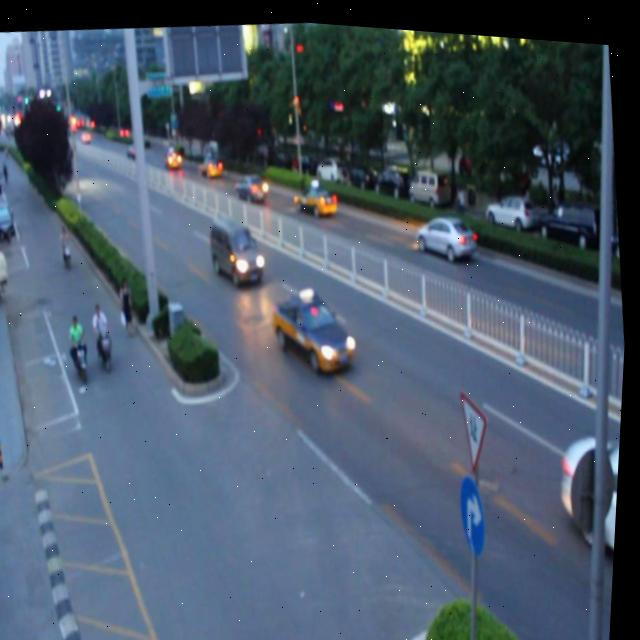car: (556, 415, 624, 572), (270, 278, 360, 375), (413, 201, 479, 262), (294, 176, 338, 212), (234, 167, 269, 201), (196, 148, 222, 174), (166, 143, 184, 166)
truck: (209, 210, 268, 284)
